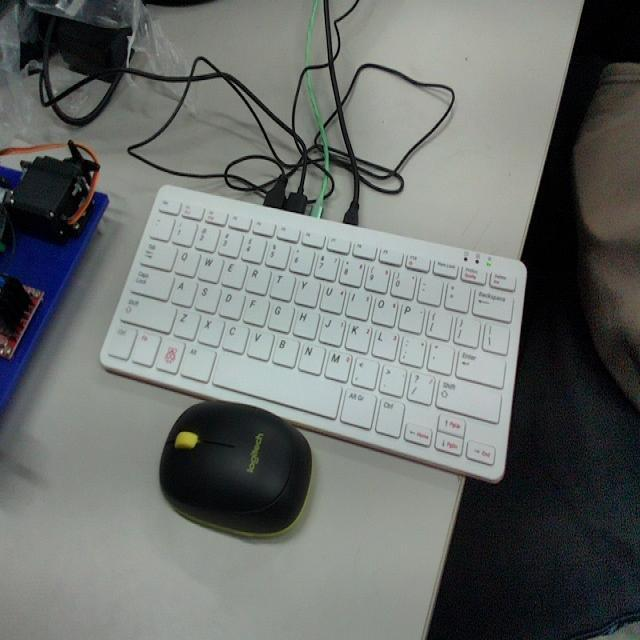keyboard: (99, 191, 517, 468)
